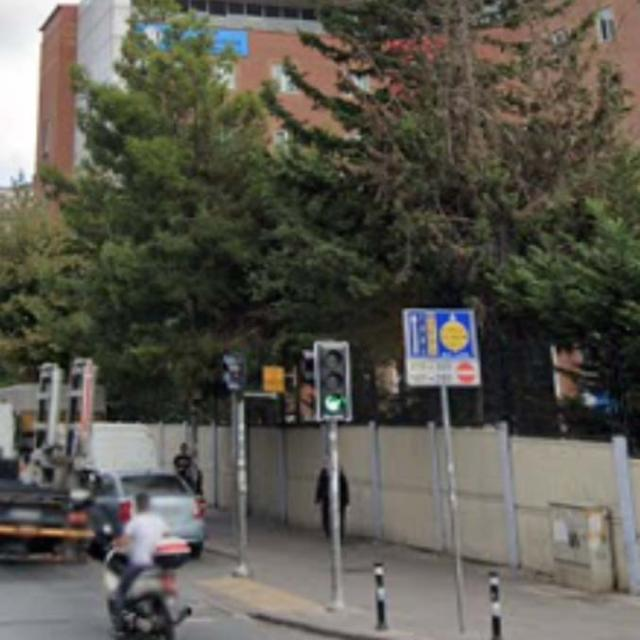yesil: (321, 343, 348, 416)
